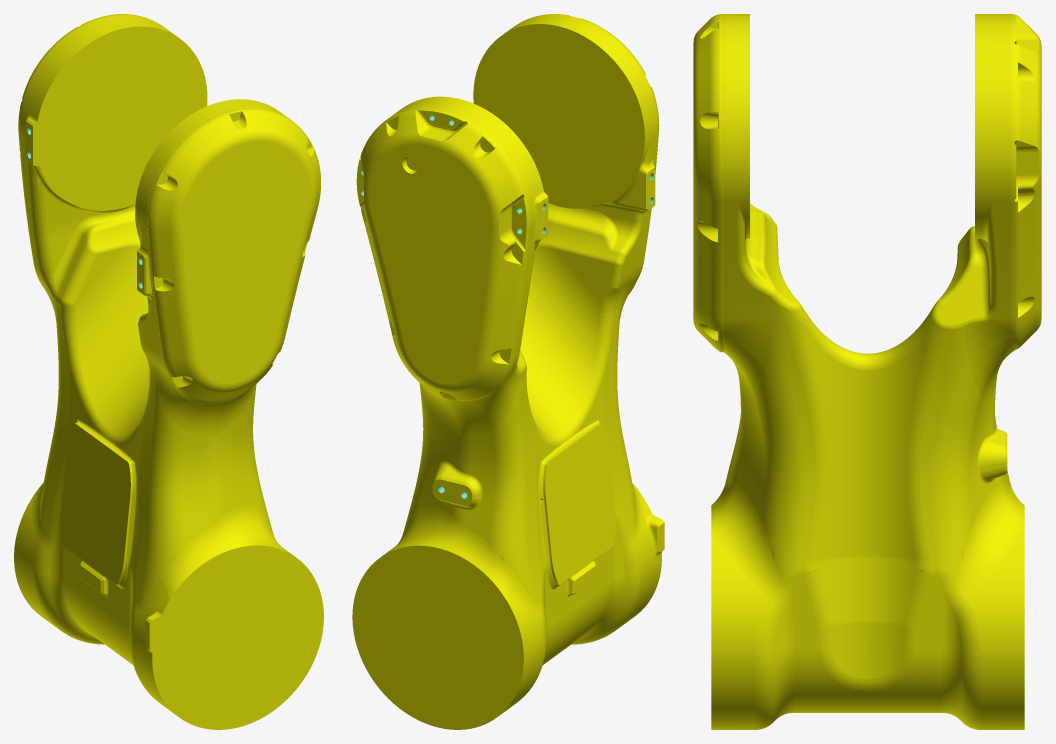
The picture shows the model from 3 angles, left to right: view 1: azimuth 30°, elevation 25°; view 2: azimuth 150°, elevation 25°; view 3: azimuth 270°, elevation 25°; orthographic projection. The views are drawn at different scales.
Visible parts, largest first — view 1: Mesh_0; view 2: Mesh_0; view 3: Mesh_0.
Part boxes in pixels (x1,y1,x2,y2): Mesh_0: (14,14,323,729); Mesh_0: (352,14,664,729); Mesh_0: (693,14,1041,729).
Size of the model in its own units: 0.268 by 0.409 by 0.901.
